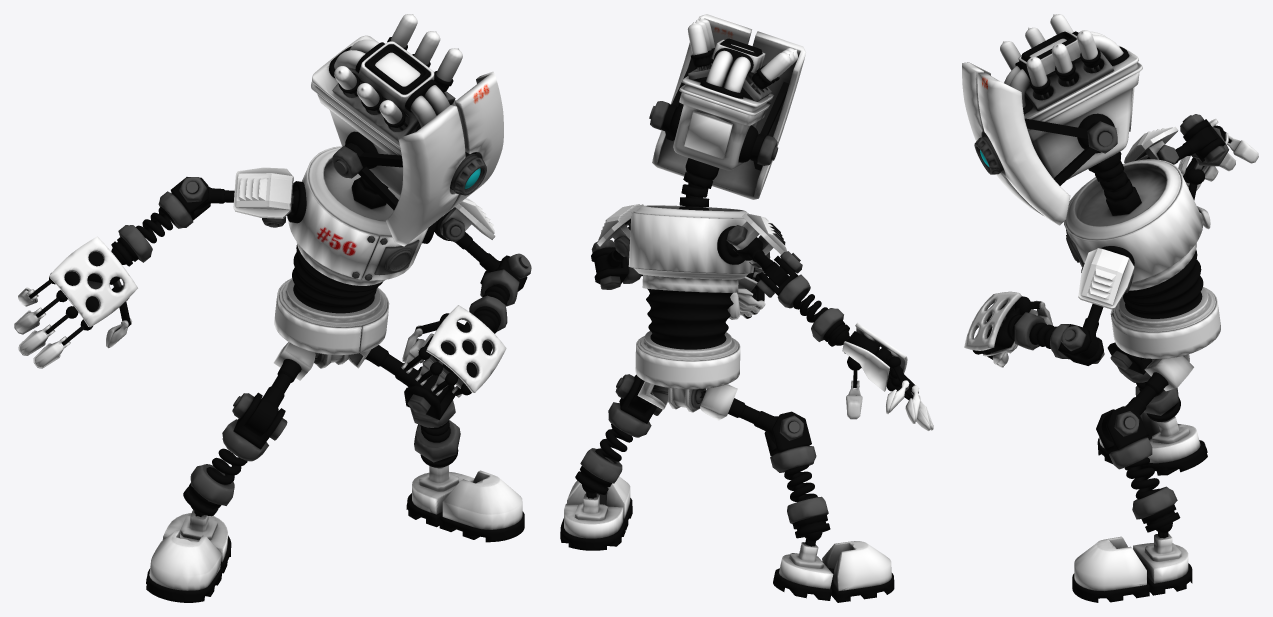
Rendered from robott.glb.
The picture shows the model from 3 angles, left to right: view 1: azimuth 30°, elevation 25°; view 2: azimuth 150°, elevation 25°; view 3: azimuth 270°, elevation 25°; orthographic projection. The views are drawn at different scales.
Visible parts, largest first — view 1: Object_4, Object_5, Object_2, Object_3, Object_6, Object_7; view 2: Object_4, Object_2, Object_5, Object_3, Object_7, Object_6; view 3: Object_4, Object_5, Object_3, Object_2, Object_6, Object_7.
Part boxes in pixels (bbox=[...]): Object_4: bbox=[274, 31, 503, 368]; Object_5: bbox=[291, 14, 494, 397]; Object_2: bbox=[146, 52, 487, 602]; Object_3: bbox=[234, 71, 524, 542]; Object_6: bbox=[18, 177, 531, 392]; Object_7: bbox=[14, 177, 384, 355]; Object_4: bbox=[628, 14, 797, 412]; Object_2: bbox=[575, 44, 894, 602]; Object_5: bbox=[669, 17, 806, 319]; Object_3: bbox=[560, 48, 787, 550]; Object_7: bbox=[681, 62, 930, 430]; Object_6: bbox=[591, 106, 933, 430]; Object_4: bbox=[977, 14, 1220, 361]; Object_5: bbox=[962, 30, 1179, 367]; Object_3: bbox=[1029, 75, 1192, 602]; Object_2: bbox=[1024, 38, 1207, 574]; Object_6: bbox=[964, 114, 1258, 365]; Object_7: bbox=[1039, 65, 1235, 229].
Bounding box in the file's own units: 35.14 × 41.3 × 21.43.
1 material, 1 textured.
